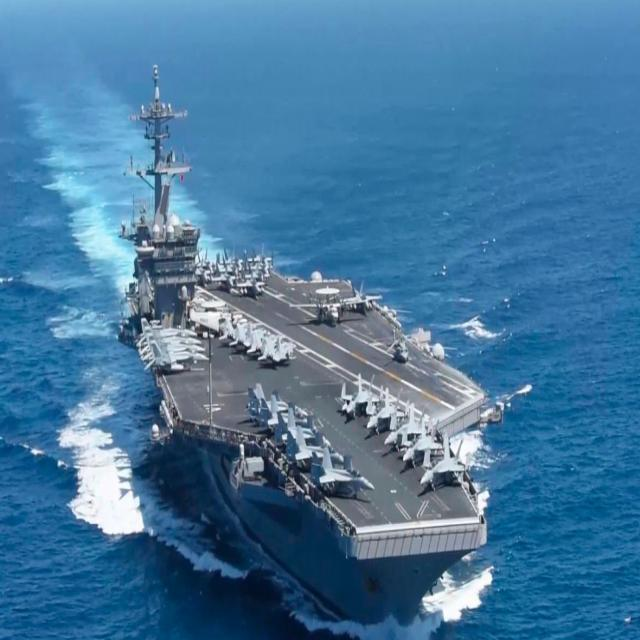Portanaves: (113, 61, 507, 640)
